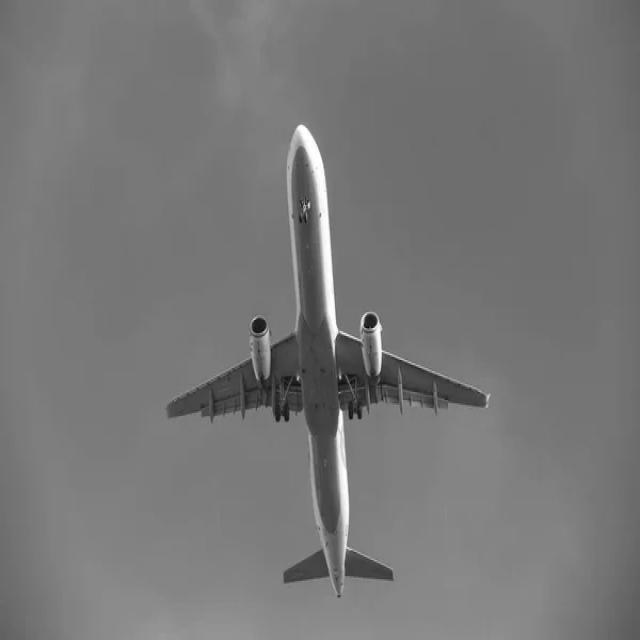Aircraft: (162, 105, 496, 618)
